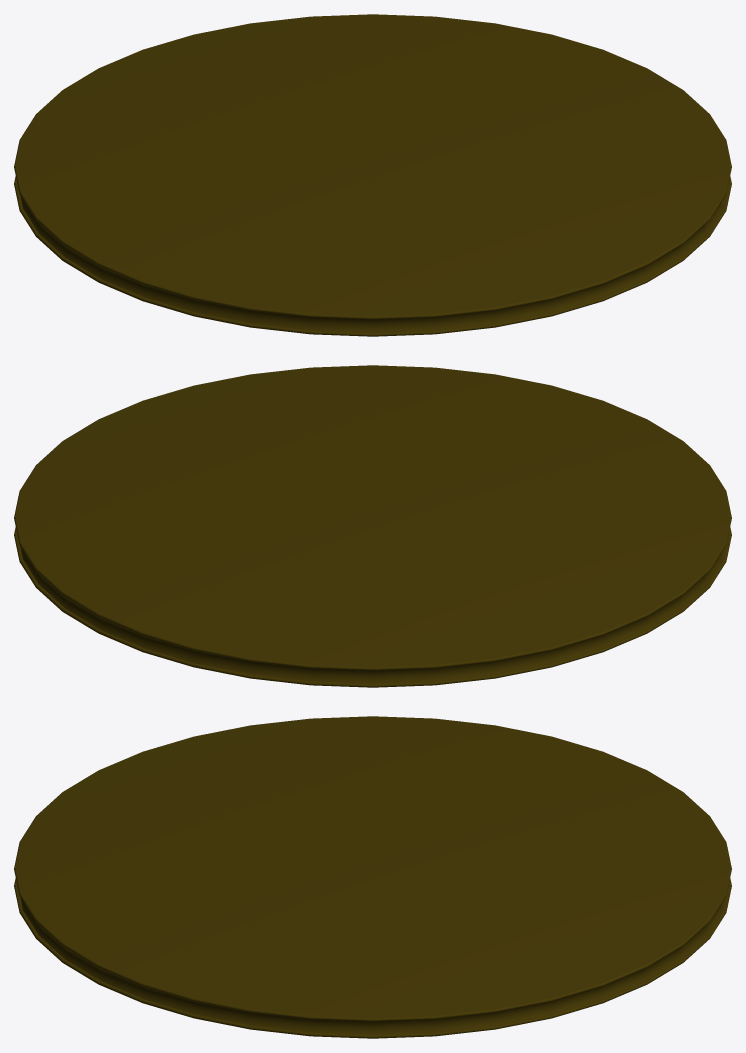
File: table2.dae
3 renders of one model, top to bottom at view 1: azimuth 30°, elevation 25°; view 2: azimuth 150°, elevation 25°; view 3: azimuth 270°, elevation 25°, orthographic.
Parts seen in each view (by area): view 1: group_0 (×3); view 2: group_0 (×3); view 3: group_0 (×3).
Boxes of the visible parts, <box> form: group_0 (×3): <box>14,14,731,336</box>; group_0 (×3): <box>14,365,731,687</box>; group_0 (×3): <box>14,716,731,1038</box>.
Size of the model in its own units: 24.17 by 24.17 by 0.748.
